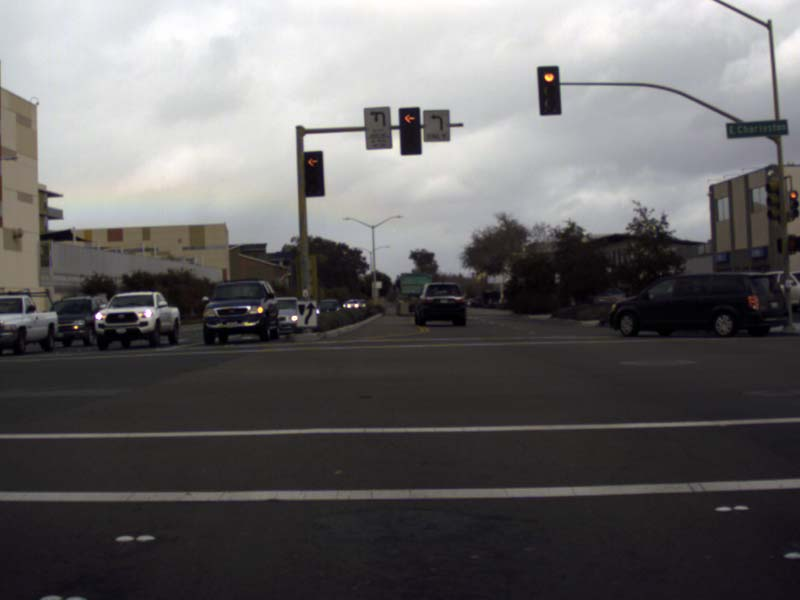Red: (537, 66, 561, 114), (398, 108, 421, 153), (303, 151, 324, 195), (789, 189, 799, 219)
